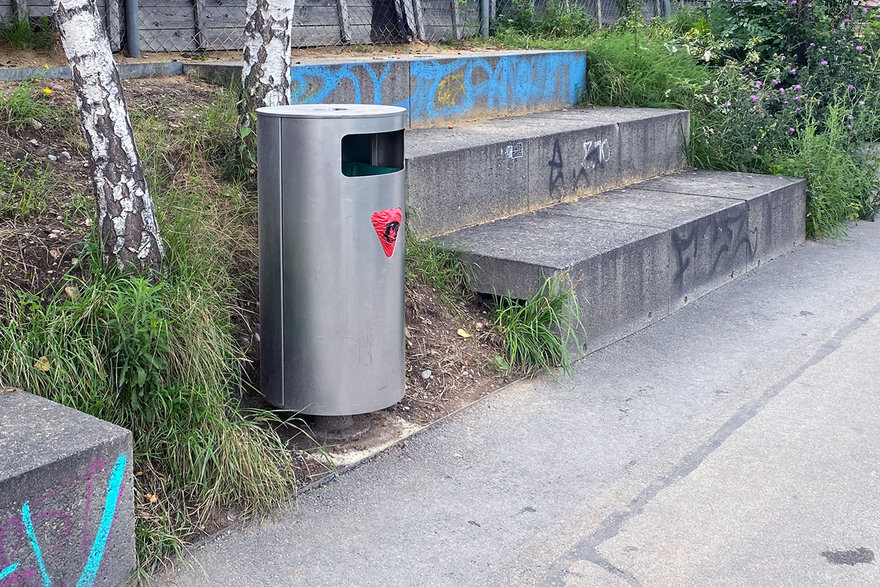TrashBin: (229, 94, 440, 443)
